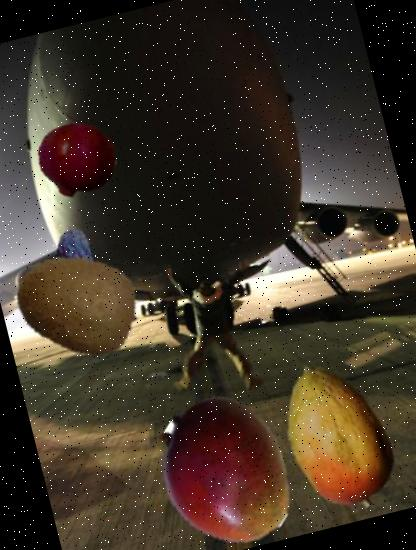Dates: (41, 222, 114, 296)
Kiwi: (4, 229, 153, 378)
Mango: (137, 380, 319, 550)
Papaya: (245, 348, 416, 530)
Pomegranate: (29, 113, 125, 209)
